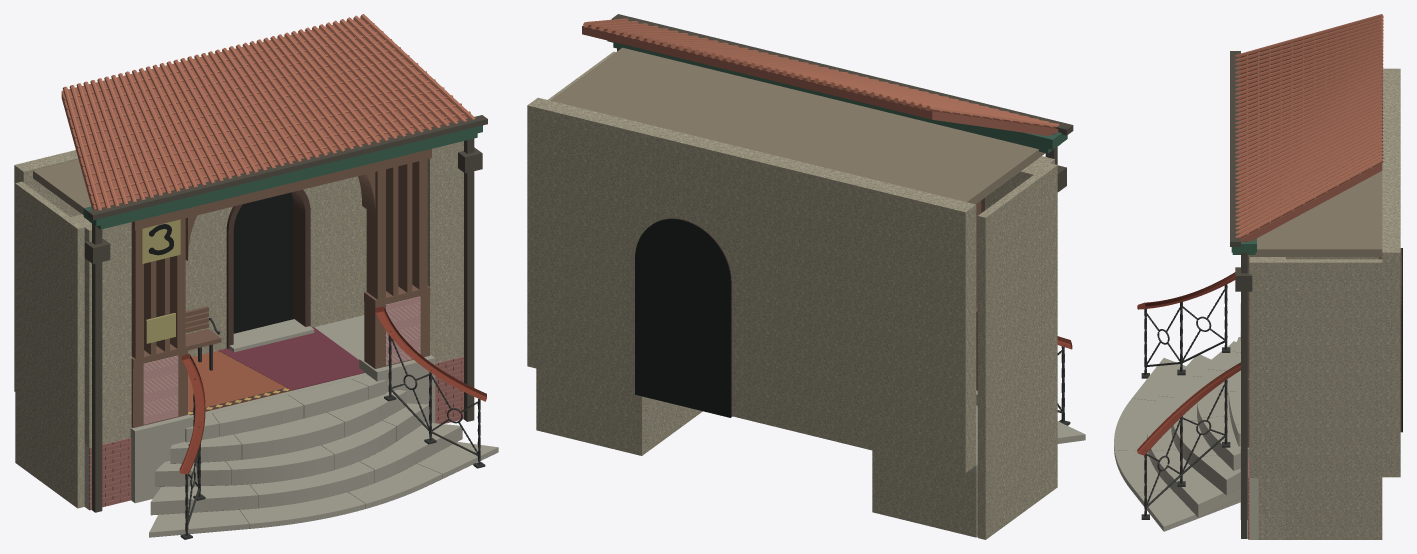
File: xuhui-dingxiang-three-numbered-porch-web.glb
The picture shows the model from 3 angles, left to right: view 1: azimuth 30°, elevation 25°; view 2: azimuth 150°, elevation 25°; view 3: azimuth 270°, elevation 25°; orthographic projection. The views are drawn at different scales.
Parts seen in each view (by area): view 1: 丁香花园三号楼门廊与弧形石阶; view 2: 丁香花园三号楼门廊与弧形石阶; view 3: 丁香花园三号楼门廊与弧形石阶.
Boxes of the visible parts, x1,y1,x2,y2 form: 丁香花园三号楼门廊与弧形石阶: [14, 14, 498, 539]; 丁香花园三号楼门廊与弧形石阶: [527, 14, 1085, 539]; 丁香花园三号楼门廊与弧形石阶: [1114, 14, 1402, 539].
Size of the model in its own units: 5.7 by 5.02 by 3.64.
22 materials, 1 textured.
